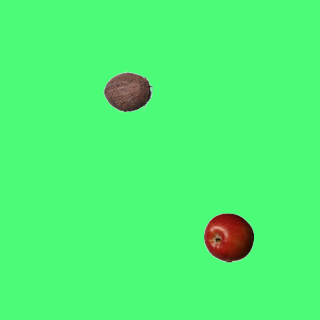Apple Braeburn: (203, 212, 253, 262)
Cocos: (102, 66, 152, 116)
